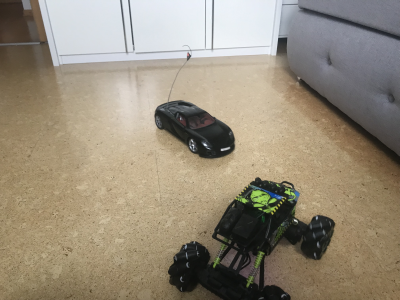remote control car: (166, 176, 336, 300)
